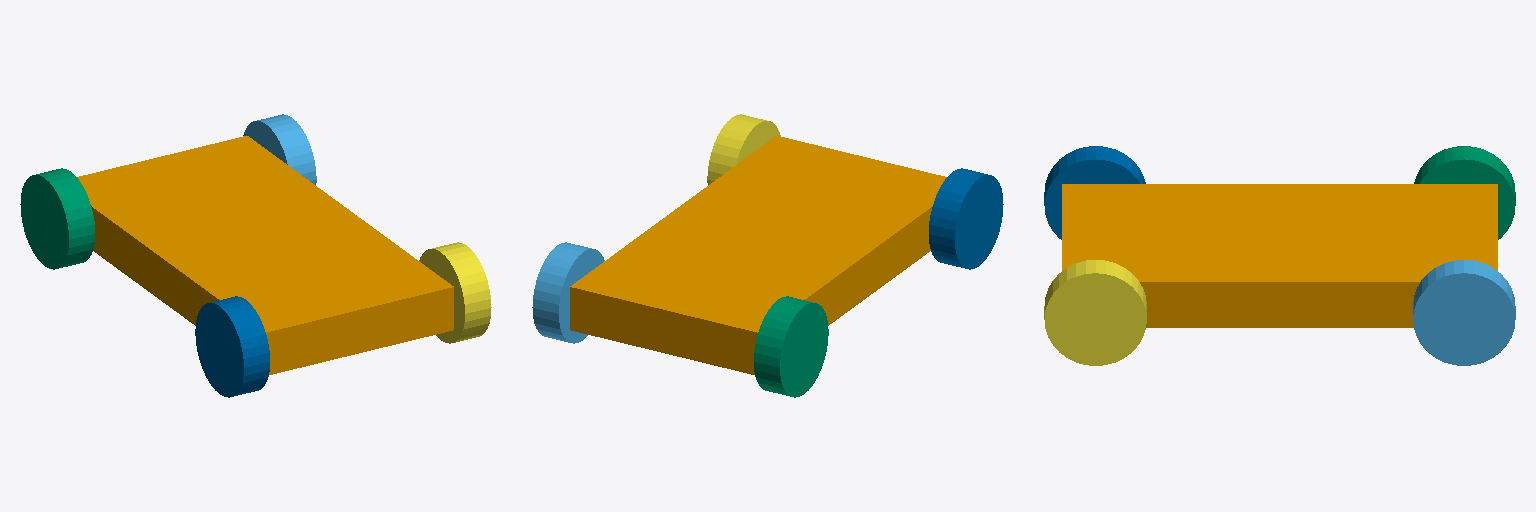
robot.urdf — sirdigsalot:
<?xml version="1.0"?>
<robot name="sirdigsalot">
  <link name="base_link">
    <visual>
      <geometry>
        <box size=".4572 .8636 .1"/>
      </geometry>
    </visual>
    <collision>
      <geometry>
        <box size=".4572 .8636 .1"/>
      </geometry>
    </collision>
    <inertial>
      <mass value="1"/>
      <inertia
        ixx="0.0" ixy="0.0" ixz="0.0"
        iyy="0.0" iyz="0.0"
        izz="0.0"/>
    </inertial>
  </link>

  <link name="right_front_wheel">
    <visual>
      <geometry>
        <cylinder length=".0635" radius="0.1016"/>
      </geometry>
      <origin rpy="0 1.57075 0"/>
    </visual>
    <collision>
      <geometry>
        <cylinder length=".0635" radius="0.1016"/>
      </geometry>
      <origin rpy="0 1.57075 0"/>
    </collision>
    <inertial>
      <origin rpy="0 1.57075  0"/>
      <mass value="1"/>
      <inertia
        ixx="0.0" ixy="0.0" ixz="0.0"
        iyy="0.0" iyz="0.0"
        izz="0.0"/>
    </inertial>
  </link>

  <link name="left_front_wheel">
    <visual>
      <geometry>
        <cylinder length=".0635" radius="0.1016"/>
      </geometry>
      <origin rpy="0 1.57075 0"/>
    </visual>
    <collision>
      <geometry>
        <cylinder length=".0635" radius="0.1016"/>
      </geometry>
      <origin rpy="0 1.57075 0"/>
    </collision>
    <inertial>
      <origin rpy="0 1.57075 0"/>
      <mass value="1"/>
      <inertia
        ixx="0.0" ixy="0.0" ixz="0.0"
        iyy="0.0" iyz="0.0"
        izz="0.0"/>
    </inertial>
  </link>

  <link name="right_back_wheel">
    <visual>
      <geometry>
        <cylinder length=".0635" radius="0.1016"/>
      </geometry>
      <origin rpy="0 1.57075 0"/>
    </visual>
    <collision>
      <geometry>
        <cylinder length=".0635" radius="0.1016"/>
      </geometry>
      <origin rpy="0 1.57075 0"/>
    </collision>
    <inertial>
      <origin rpy="0 1.57075 0"/>
      <mass value="1"/>
      <inertia
        ixx="0.0" ixy="0.0" ixz="0.0"
        iyy="0.0" iyz="0.0"
        izz="0.0"/>
    </inertial>
  </link>

  <link name="left_back_wheel">
    <visual>
      <geometry>
        <cylinder length=".0635" radius="0.1016"/>
      </geometry>
      <origin rpy="0 1.57075 0"/>
    </visual>
    <collision>
      <geometry>
        <cylinder length=".0635" radius="0.1016"/>
      </geometry>
      <origin rpy="0 1.57075 0"/>
    </collision>
    <inertial>
      <origin rpy="0 1.57075 0"/>
      <mass value="1"/>
      <inertia
        ixx="0.0" ixy="0.0" ixz="0.0"
        iyy="0.0" iyz="0.0"
        izz="0.0"/>
    </inertial>
  </link>

  <joint name="rf_wheel_joint" type="continuous">
    <parent link="base_link"/>
    <child link="right_front_wheel"/>
    <axis xyz="1 0 0"/>
    <origin xyz=".2667 .365125 0"/>
    <dynamics damping="0.7"/>
  </joint>

  <joint name="lf_wheel_joint" type="continuous">
    <parent link="base_link"/>
    <child link="left_front_wheel"/>
    <axis xyz="1 0 0"/>
    <origin xyz="-.2667 .365125 0"/>
    <dynamics damping="0.7"/>
  </joint>

  <joint name="br_wheel_joint" type="continuous">
    <parent link="base_link"/>
    <child link="right_back_wheel"/>
    <axis xyz="1 0 0"/>
    <origin xyz=".2667 -.365125 0"/>
    <dynamics damping="0.7"/>
  </joint>

  <joint name="bl_wheel_joint" type="continuous">
    <parent link="base_link"/>
    <child link="left_back_wheel"/>
    <axis xyz="1 0 0"/>
    <origin xyz="-.2667 -.365125 0"/>
    <dynamics damping="0.7"/>
  </joint>

  <!-- fake joints because the virtual actuator joints need children -->
  <link name="dump_end">
  </link>
  <link name="ladder_end">
  </link>

  <joint name="dump" type="prismatic">
    <parent link="base_link"/>
    <child link="dump_end"/>
    <limit upper="0.20" effort="90" velocity="1000"/>
  </joint>
  <joint name="ladder" type="prismatic">
    <parent link="base_link"/>
    <child link="ladder_end"/>
    <limit upper="0.20" effort="90" velocity="1000"/>
  </joint>

  <!-- http://gazebosim.org/tutorials?tut=ros_gzplugins -->
  <gazebo>
    <plugin name="imu_plugin" filename="libgazebo_ros_imu.so">
      <robotNamespace>/sirdigsalot</robotNamespace>
      <alwaysOn>true</alwaysOn>
      <bodyName>base_link</bodyName>
      <topicName>imu</topicName>
      <serviceName>imu_service</serviceName>
      <gaussianNoise>0.0</gaussianNoise>
      <updateRate>20.0</updateRate>
      <frameName>base_link</frameName>
    </plugin>
    <!--
    <plugin name="gazebo_ros_control" filename="libgazebo_ros_control.so">
      <robotNamespace>/sirdigsalot</robotNamespace>
    </plugin>
    -->
    <plugin name="skid_steer_drive_controller" filename="libgazebo_ros_skid_steer_drive.so">
      <updateRate>100</updateRate>
      <robotNamespace>/sirdigsalot</robotNamespace>
      <leftFrontJoint>base_to_left_front_wheel</leftFrontJoint>
      <rightFrontJoint>base_to_right_front_wheel</rightFrontJoint>
      <leftRearJoint>base_to_left_back_wheel</leftRearJoint>
      <rightRearJoint>base_to_right_back_wheel</rightRearJoint>
      <wheelSeparation>0.5334</wheelSeparation>
      <wheelDiameter>0.20232</wheelDiameter>
      <robotBaseFrame>base_link</robotBaseFrame>
      <torque>20</torque>
      <odometryTopic>odom</odometryTopic>
      <odometryFrame>odom</odometryFrame>
      <commandTopic>cmd_vel</commandTopic>
      <broadcastTF>false</broadcastTF>
    </plugin>
  </gazebo>

</robot>

--- Render facts (derived) ---
Views: 3 orthographic renders of the robot side by side, from view 1: azimuth 30°, elevation 25°; view 2: azimuth 150°, elevation 25°; view 3: azimuth 270°, elevation 25°.
Model sirdigsalot with 7 links and 6 joints (4 continuous, 2 prismatic), rooted at base_link, posed every joint at zero.
Links seen in each view (by area): view 1: base_link, left_back_wheel, left_front_wheel, right_back_wheel, right_front_wheel; view 2: base_link, left_front_wheel, left_back_wheel, right_front_wheel, right_back_wheel; view 3: base_link, right_front_wheel, right_back_wheel, left_front_wheel, left_back_wheel.
Link boxes in pixels (<box>): base_link: <box>77,136,453,374</box>; left_back_wheel: <box>195,296,269,397</box>; left_front_wheel: <box>20,168,94,269</box>; right_back_wheel: <box>419,242,491,343</box>; right_front_wheel: <box>243,114,316,184</box>; base_link: <box>570,136,946,374</box>; left_front_wheel: <box>754,296,828,397</box>; left_back_wheel: <box>929,168,1003,269</box>; right_front_wheel: <box>532,242,604,343</box>; right_back_wheel: <box>707,114,780,184</box>; base_link: <box>1062,184,1497,327</box>; right_front_wheel: <box>1413,260,1515,365</box>; right_back_wheel: <box>1044,260,1146,365</box>; left_front_wheel: <box>1414,146,1515,239</box>; left_back_wheel: <box>1044,146,1145,239</box>.
Size in the robot's own frame: 0.5969 by 0.9334 by 0.2032 metres.
Geometry: primitives only (box / cylinder / sphere), no mesh files.
